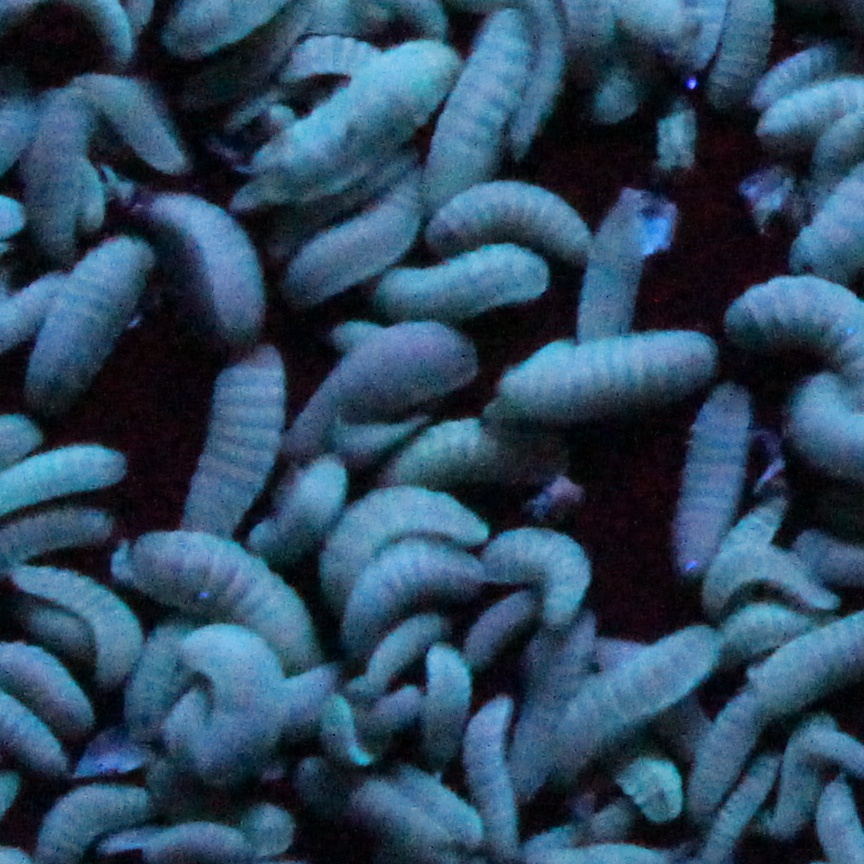larve: (239, 40, 461, 206), (132, 530, 335, 665), (549, 625, 720, 777), (285, 332, 473, 454), (325, 489, 487, 611), (190, 346, 292, 539), (32, 230, 147, 401), (427, 8, 532, 189), (289, 166, 430, 296), (151, 192, 275, 335), (501, 330, 715, 408), (185, 628, 289, 782), (671, 382, 754, 572), (342, 544, 485, 654), (378, 247, 551, 322), (428, 189, 599, 261), (480, 523, 601, 622), (37, 87, 92, 270), (90, 76, 179, 173), (706, 753, 780, 856), (366, 611, 454, 689), (748, 45, 835, 101)
